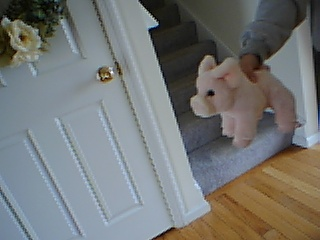piggy: (188, 53, 301, 150)
